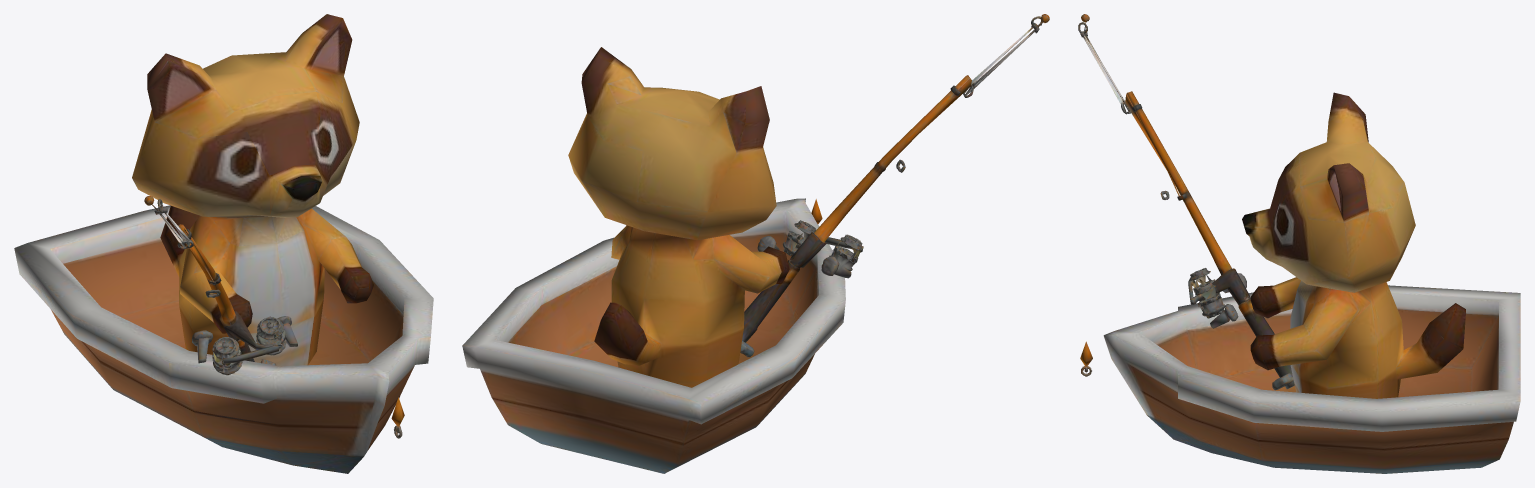
The model's file is barque-2.glb.
3 views of the same model, side by side, from view 1: azimuth 30°, elevation 25°; view 2: azimuth 150°, elevation 25°; view 3: azimuth 270°, elevation 25° (orthographic). The views are drawn at different scales.
Visible parts, largest first — view 1: tripo_node_12a6cbb3-31c3-4cca-954e-e1f2e740a32a; view 2: tripo_node_12a6cbb3-31c3-4cca-954e-e1f2e740a32a; view 3: tripo_node_12a6cbb3-31c3-4cca-954e-e1f2e740a32a.
Part boxes in pixels (x1,y1,x2,y2): tripo_node_12a6cbb3-31c3-4cca-954e-e1f2e740a32a: [14, 14, 433, 473]; tripo_node_12a6cbb3-31c3-4cca-954e-e1f2e740a32a: [462, 14, 1049, 473]; tripo_node_12a6cbb3-31c3-4cca-954e-e1f2e740a32a: [1078, 14, 1520, 473].
Bounding box in the file's own units: 0.4548 × 0.4 × 0.4998.
1 material, 1 textured.
